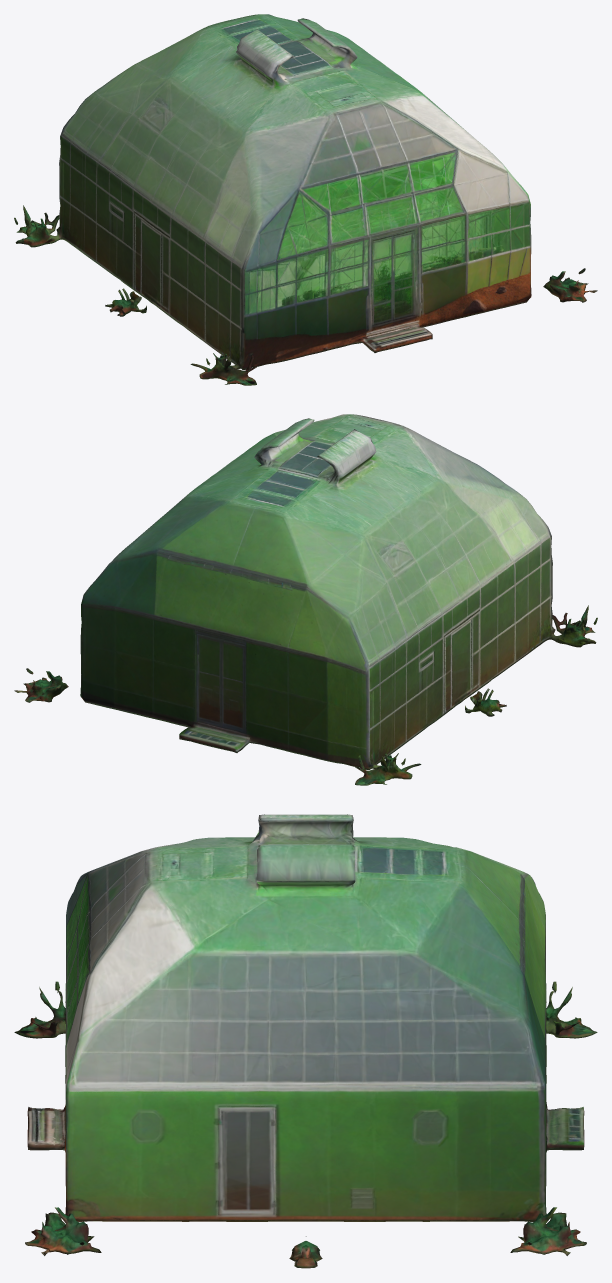
The model's file is greenhouse-mars.glb.
The picture shows the model from 3 angles, top to bottom: view 1: azimuth 30°, elevation 25°; view 2: azimuth 150°, elevation 25°; view 3: azimuth 270°, elevation 25°; orthographic projection. The views are drawn at different scales.
Size of the model in its own units: 1.92 by 1.03 by 1.8.
Materials: 1 (1 with a texture image).
